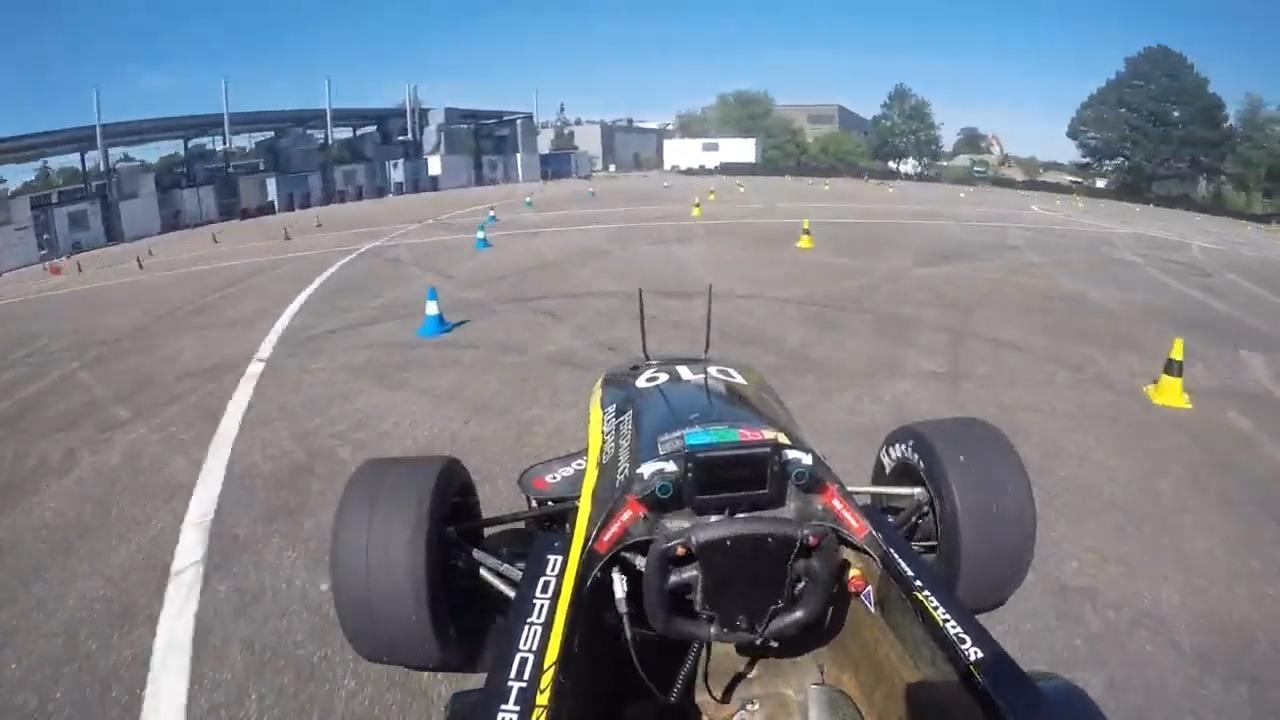blue_cone: (412, 288, 453, 332), (469, 220, 499, 254), (516, 188, 537, 218), (482, 198, 504, 220)
yellow_cone: (1141, 335, 1193, 410), (794, 216, 822, 251), (683, 194, 709, 220)
